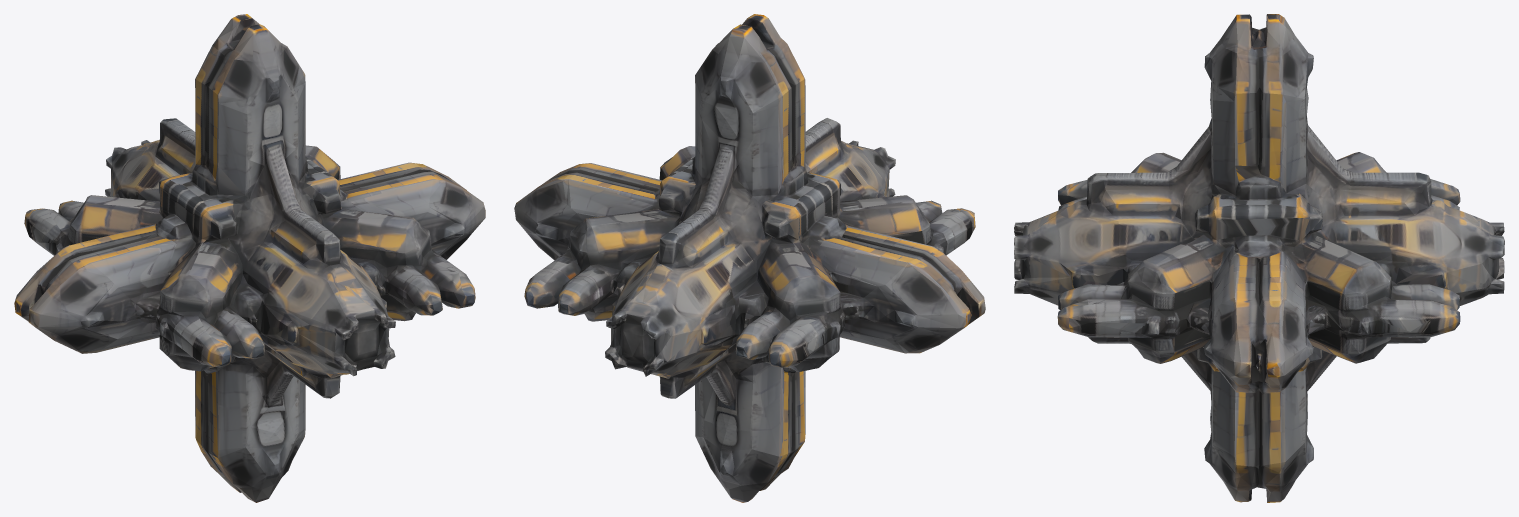
File: nave Lenta.fbx
3 renders of one model, left to right at view 1: azimuth 30°, elevation 25°; view 2: azimuth 150°, elevation 25°; view 3: azimuth 270°, elevation 25°, orthographic. The views are drawn at different scales.
Parts seen in each view (by area): view 1: Lento; view 2: Lento; view 3: Lento.
Boxes of the visible parts, x1,y1,x2,y2 form: Lento: (14, 14, 485, 502); Lento: (514, 14, 985, 502); Lento: (1014, 14, 1504, 502).
Bounding box in the file's own units: 191 × 191 × 175.
